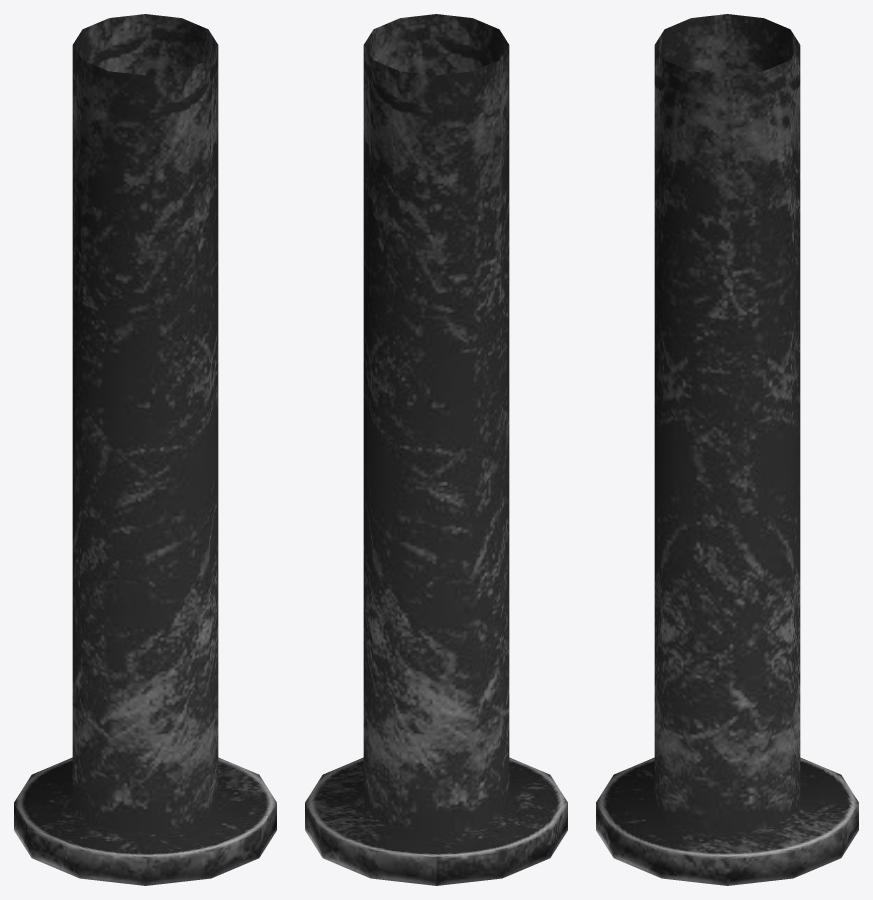
Rendered from bunker_pipe.d86099400f.glb.
3 renders of one model, left to right at view 1: azimuth 30°, elevation 25°; view 2: azimuth 150°, elevation 25°; view 3: azimuth 270°, elevation 25°, orthographic.
Parts seen in each view (by area): view 1: bunker_pipe; view 2: bunker_pipe; view 3: bunker_pipe.
Part boxes in pixels (x1,y1,x2,y2): bunker_pipe: (14, 14, 276, 885); bunker_pipe: (305, 14, 567, 885); bunker_pipe: (596, 14, 858, 885).
Bounding box in the file's own units: 0.9098 × 3 × 0.9098.
Materials: 1 (1 with a texture image).
